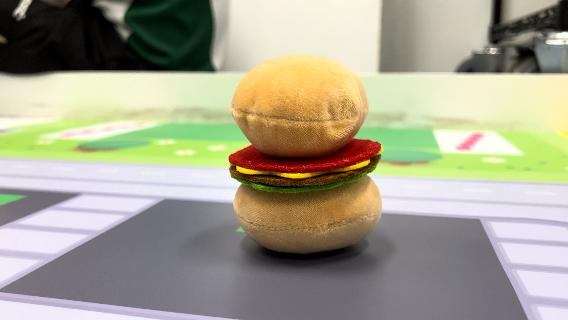burger: (222, 50, 389, 256)
